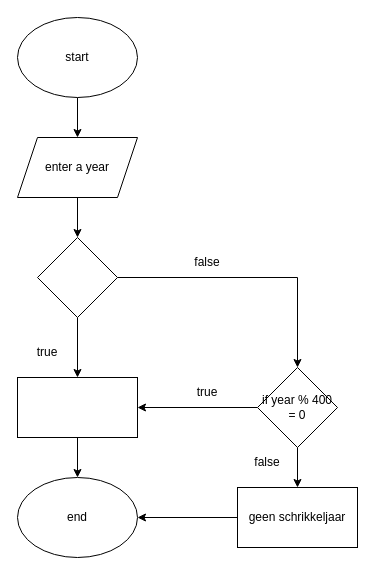
The diagram is 375 pixels wide and 575 high, and some of its shapes have lost their labels. Each missing label, with the centre of its shape:
"if year % 4 = 0 and year % 100 = 0" goes at [77,277].
"schrikkeljaar" goes at [77,407].
